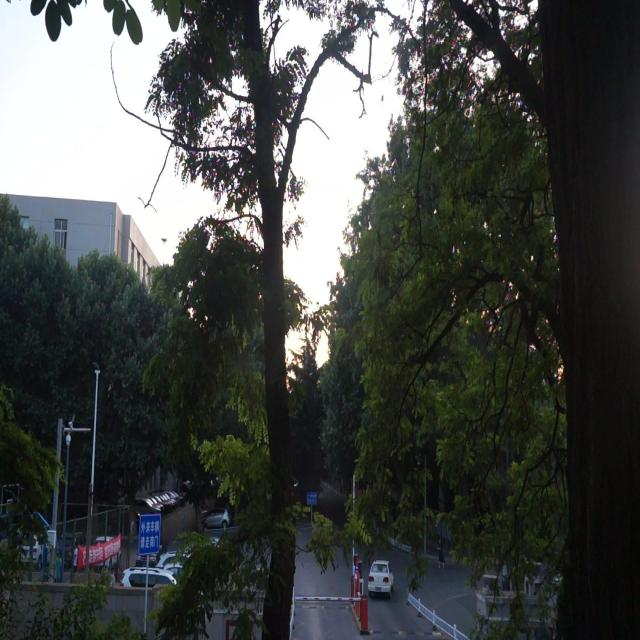drone: (157, 233, 170, 247)
